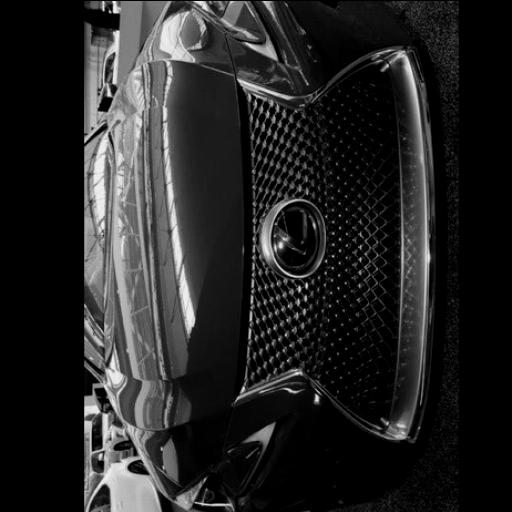car: (101, 31, 117, 84), (96, 84, 114, 120), (91, 383, 112, 413), (101, 0, 119, 13)
sedan: (83, 0, 433, 512), (83, 457, 161, 512)
suv: (88, 411, 133, 474)
